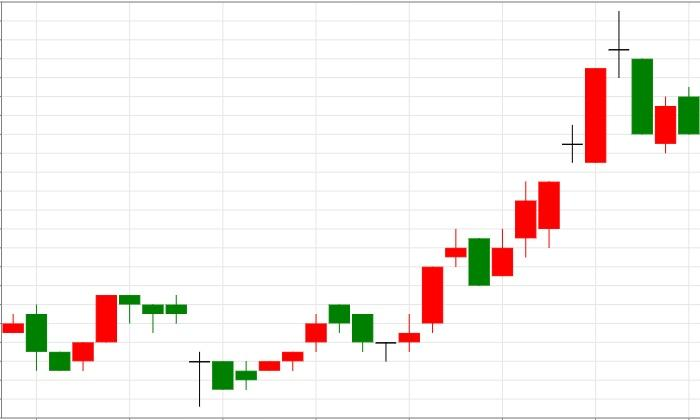evening_star_fall: (492, 11, 653, 276)
